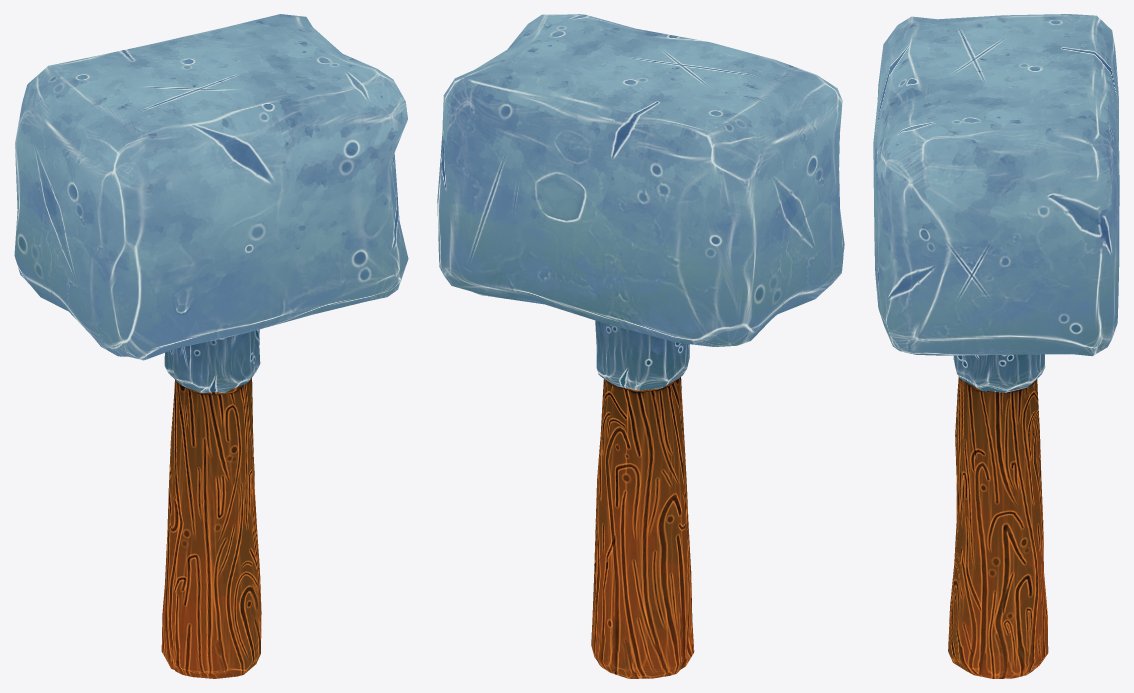
The model's file is stylized_hammer(1).glb.
3 renders of one model, left to right at view 1: azimuth 30°, elevation 25°; view 2: azimuth 150°, elevation 25°; view 3: azimuth 270°, elevation 25°, orthographic.
Parts seen in each view (by area): view 1: hammer_0; view 2: hammer_0; view 3: hammer_0.
Part boxes in pixels (x1,y1,x2,y2): hammer_0: (14, 14, 408, 678); hammer_0: (437, 14, 844, 678); hammer_0: (873, 14, 1119, 678).
Bounding box in the file's own units: 0.4228 × 0.7705 × 0.2899.
1 material, 1 textured.
